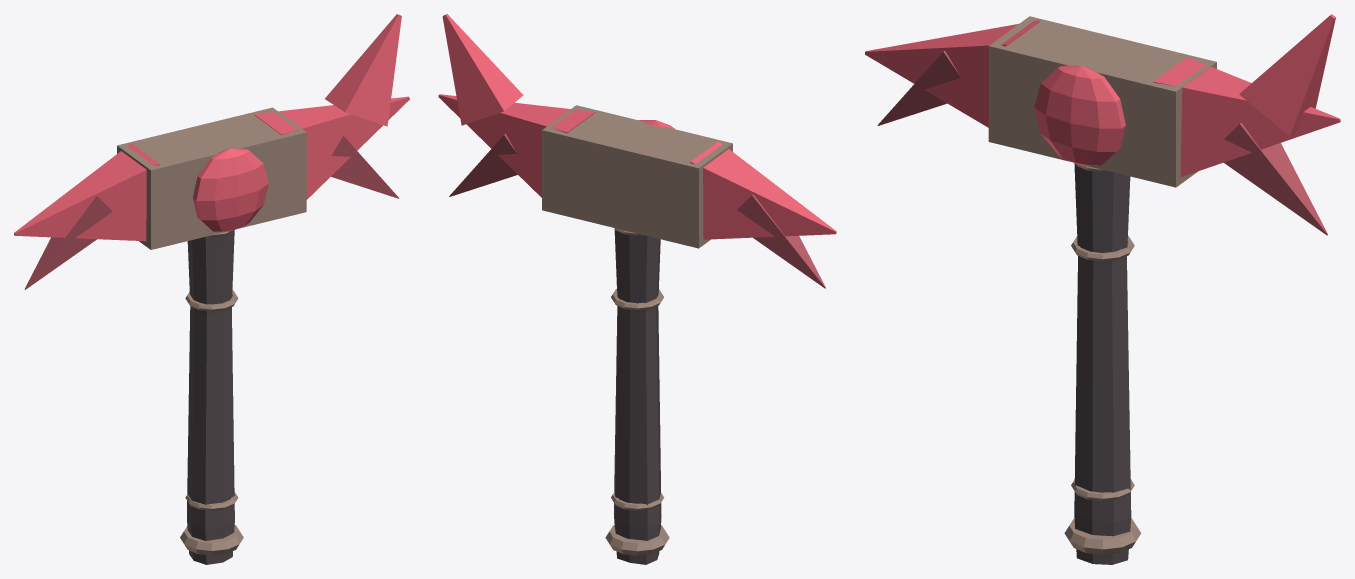
File: BH_PICK_P18_Ceifadora_Demoniaca_V01.glb
3 views of the same model, side by side, from view 1: azimuth 30°, elevation 25°; view 2: azimuth 150°, elevation 25°; view 3: azimuth 330°, elevation 25° (orthographic). The views are drawn at different scales.
Visible parts, largest first — view 1: Handle | shaped shaft.001, Head | main crossbar.001, Head | mining tooth L.001, Core | socket gem.001, Head | mining tooth R.001, Head | crescent back.001, Head | hooked spur -1.001, Head | hooked spur 1.001, Handle | pommel.001; view 2: Head | main crossbar.001, Handle | shaped shaft.001, Head | mining tooth L.001, Head | mining tooth R.001, Head | crescent back.001, Head | hooked spur -1.001, Head | hooked spur 1.001, Handle | pommel.001; view 3: Handle | shaped shaft.001, Head | main crossbar.001, Head | mining tooth R.001, Core | socket gem.001, Head | mining tooth L.001, Head | crescent back.001, Head | hooked spur 1.001, Head | hooked spur -1.001, Handle | pommel.001, Handle | binding 3.001.
Boxes of the visible parts, x1,y1,x2,y2 form: Handle | shaped shaft.001: (187,230,234,564); Head | main crossbar.001: (117,107,306,249); Head | mining tooth L.001: (14,143,159,241); Core | socket gem.001: (192,148,268,231); Head | mining tooth R.001: (254,96,409,199); Head | crescent back.001: (325,14,401,126); Head | hooked spur -1.001: (24,196,112,289); Head | hooked spur 1.001: (331,136,398,198); Handle | pommel.001: (180,525,243,555); Head | main crossbar.001: (542,105,732,248); Handle | shaped shaft.001: (614,229,661,564); Head | mining tooth L.001: (690,141,836,239); Head | mining tooth R.001: (438,94,595,197); Head | crescent back.001: (442,14,523,125); Head | hooked spur -1.001: (737,194,825,288); Head | hooked spur 1.001: (449,134,517,196); Handle | pommel.001: (605,525,669,555); Handle | shaped shaft.001: (1074,163,1131,564); Head | main crossbar.001: (988,16,1216,187); Head | mining tooth R.001: (1153,57,1340,177); Core | socket gem.001: (1034,65,1125,165); Head | mining tooth L.001: (865,20,1039,127); Head | crescent back.001: (1239,14,1335,135); Head | hooked spur 1.001: (1224,123,1327,235); Head | hooked spur -1.001: (877,50,960,125); Handle | pommel.001: (1064,518,1141,554); Handle | binding 3.001: (1071,236,1134,261).
Bounding box in the file's own units: 2.28 × 2.73 × 0.44.
